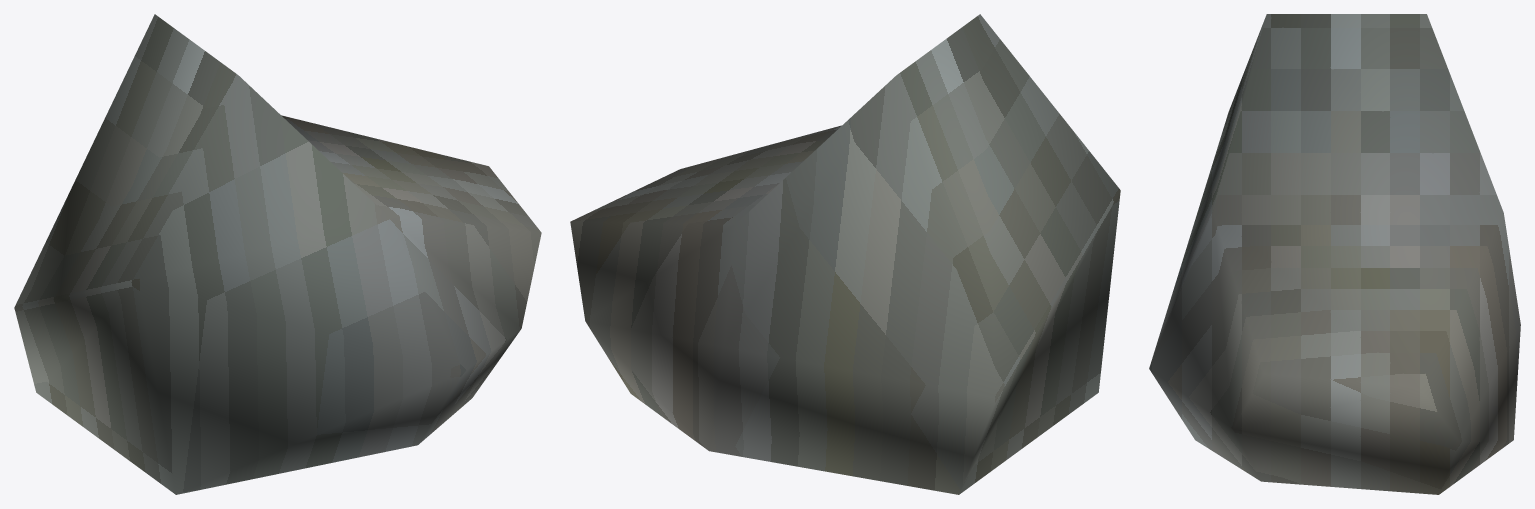
The model's file is Rock3.fbx.
3 renders of one model, left to right at view 1: azimuth 30°, elevation 25°; view 2: azimuth 150°, elevation 25°; view 3: azimuth 270°, elevation 25°, orthographic. The views are drawn at different scales.
Parts seen in each view (by area): view 1: Rock3; view 2: Rock3; view 3: Rock3.
Boxes of the visible parts, x1=… form: Rock3: x1=14, y1=14, x2=541, y2=494; Rock3: x1=570, y1=14, x2=1120, y2=494; Rock3: x1=1149, y1=14, x2=1520, y2=494.
Size of the model in its own units: 1.86 by 1.49 by 1.39.
1 material, 1 textured.
